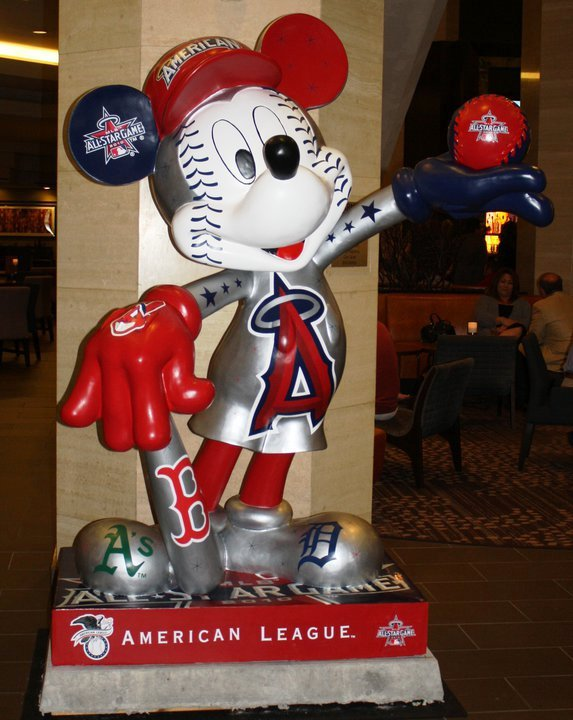Mickey: (60, 7, 357, 280)
